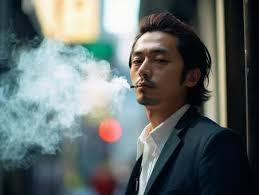smoker: (61, 15, 229, 160)
